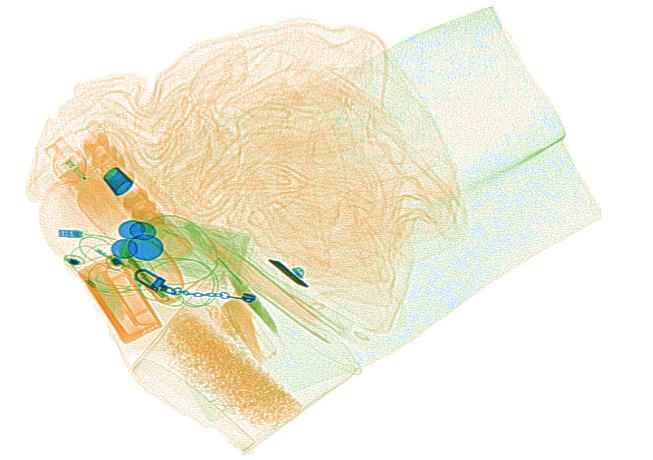plasticBottleWithaNozzle: (43, 134, 170, 277)
